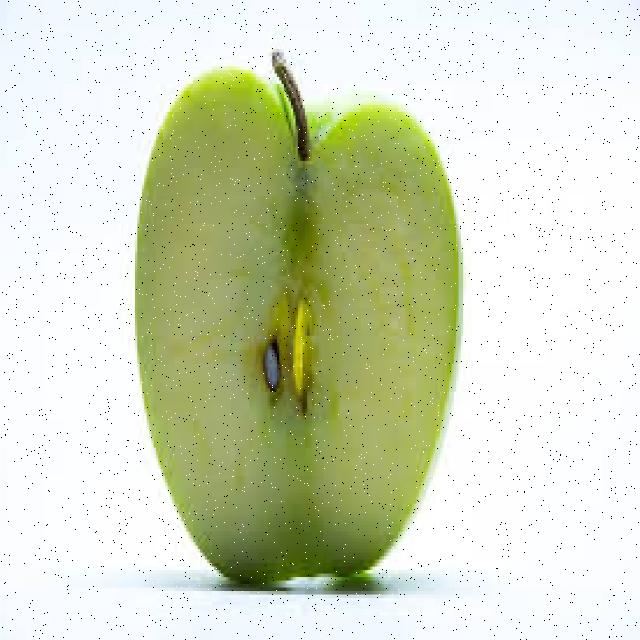Apple: (135, 58, 461, 586)
